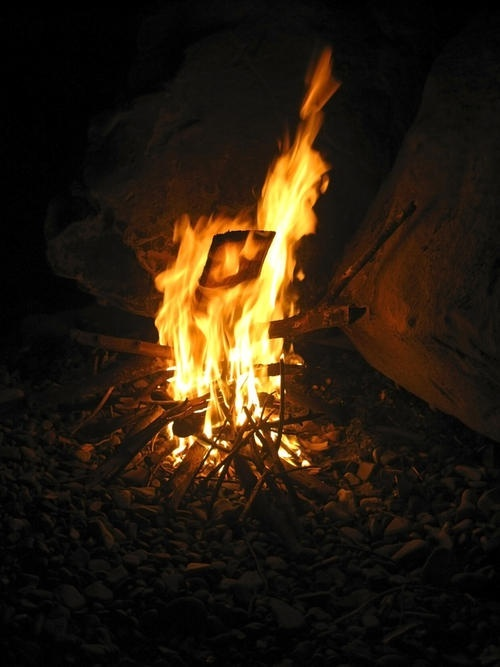fire: (144, 35, 337, 486)
